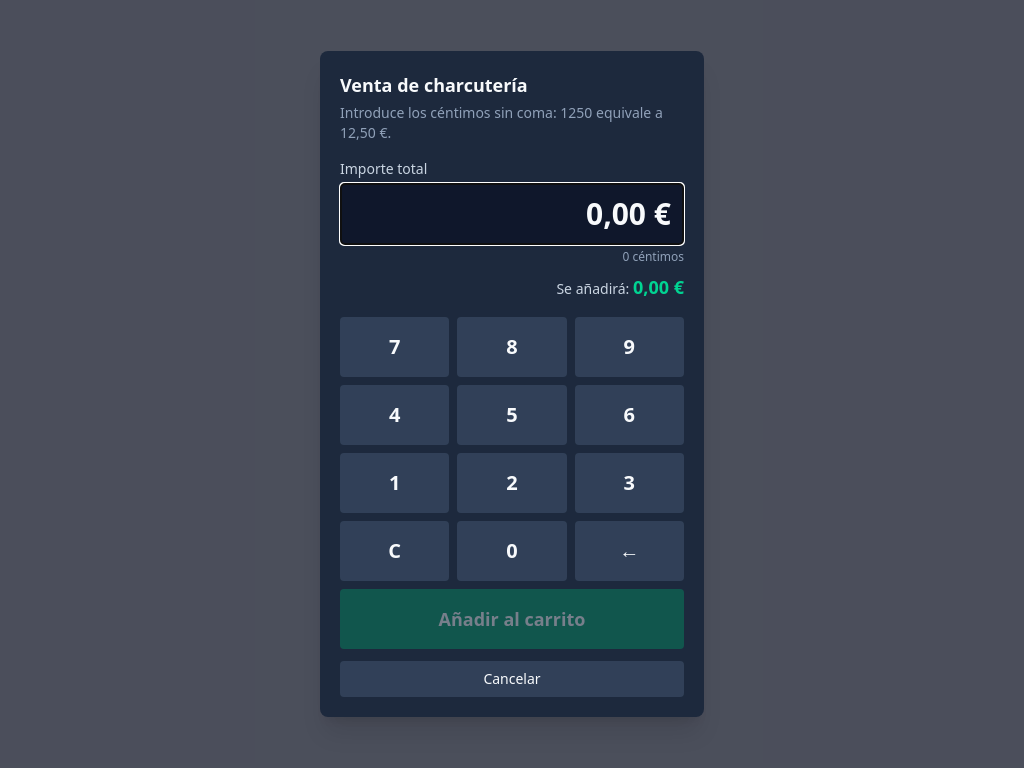
it: OpenPricePrompt › moves the decimal point as each digit is entered and supports deletion
What coordinates should you click on to do the following:
click the button "5"
I would click on:
 (512, 415)
Its box is [457, 385, 567, 445].
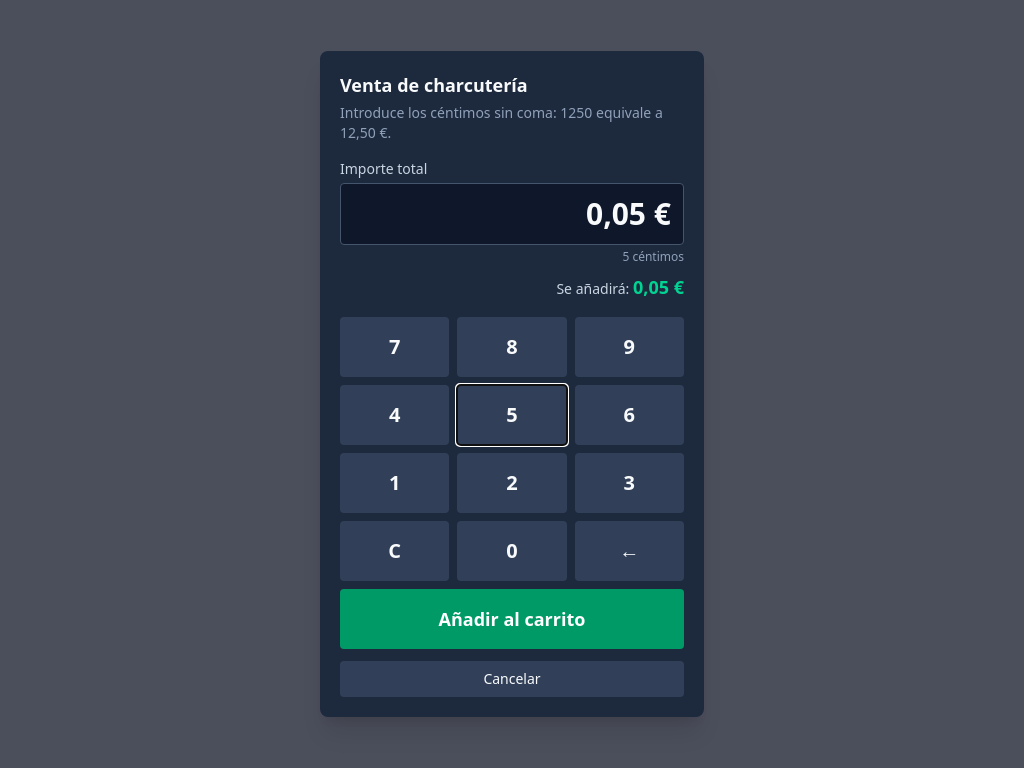
Check: the field showing "0,05 €" is shown, box [340, 183, 684, 245]
What coordinates should you click on to do the following:
click the button named "Borrar un dígito"
I would click on:
 (629, 551)
Its box is [575, 521, 684, 581].
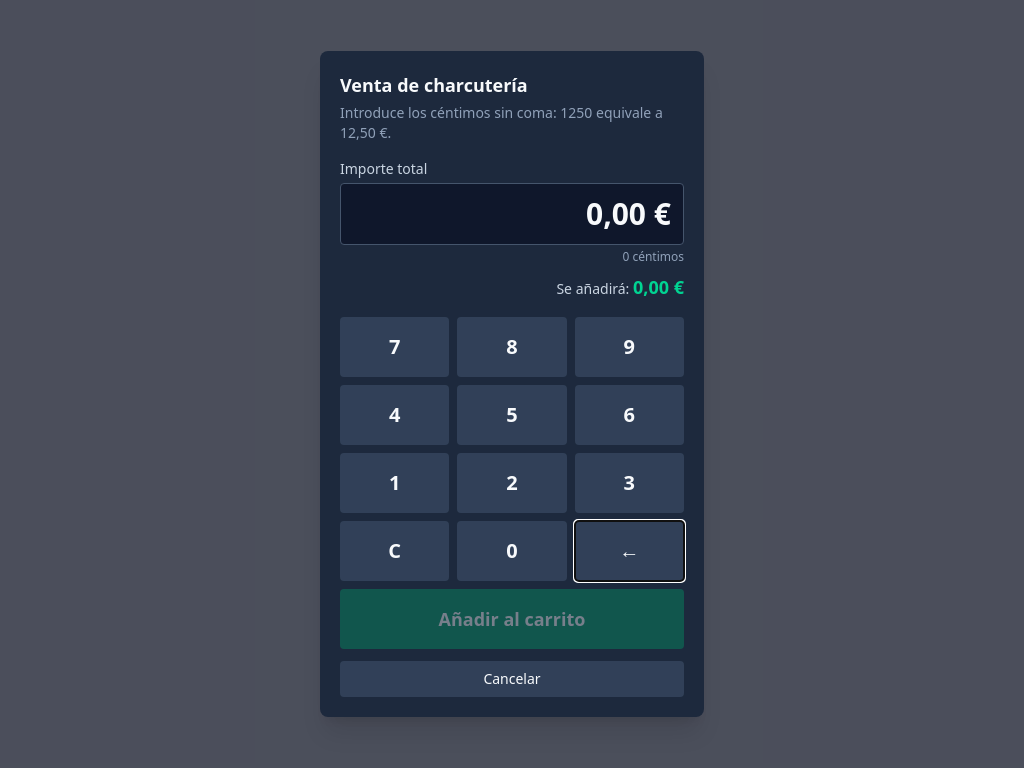
Check: the field showing "0,00 €" is shown, box [340, 183, 684, 245]
